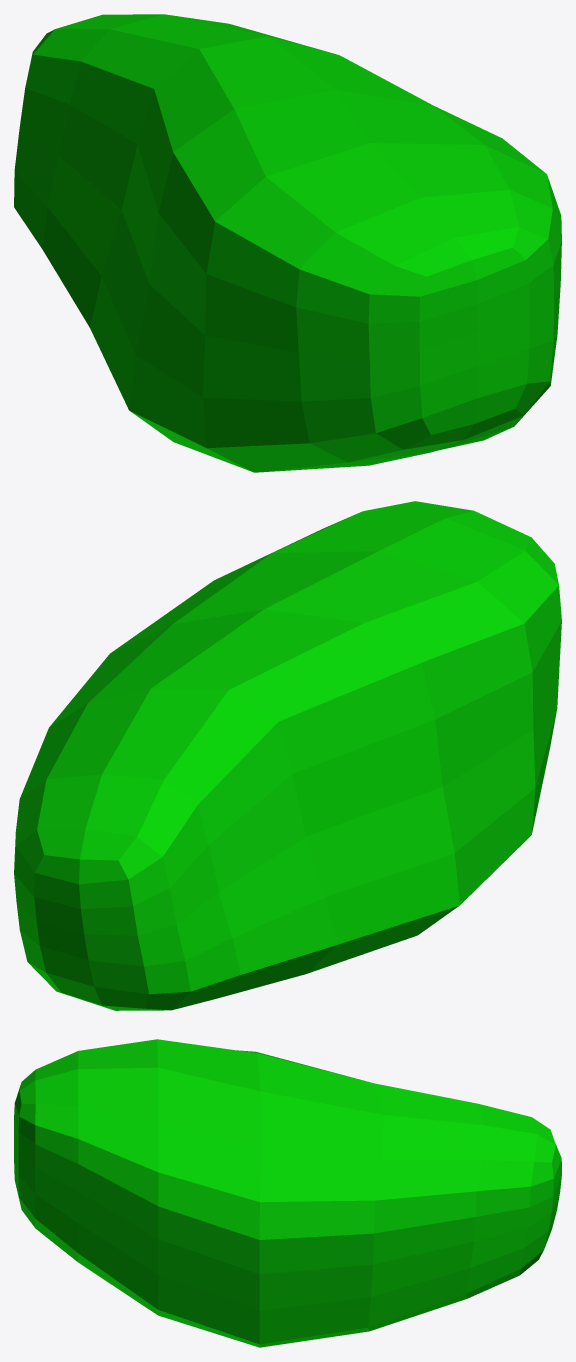
Rendered from piedras_puzzles_verde.fbx.
The picture shows the model from 3 angles, top to bottom: view 1: azimuth 30°, elevation 25°; view 2: azimuth 150°, elevation 25°; view 3: azimuth 270°, elevation 25°; orthographic projection. The views are drawn at different scales.
Visible parts, largest first — view 1: piedra2; view 2: piedra2; view 3: piedra2.
Boxes of the visible parts, left/top/right/bottom form: piedra2: left=14, top=14, right=561, bottom=472; piedra2: left=14, top=501, right=561, bottom=1010; piedra2: left=14, top=1039, right=561, bottom=1347.
Size of the model in its own units: 34.39 by 30.44 by 63.46.
